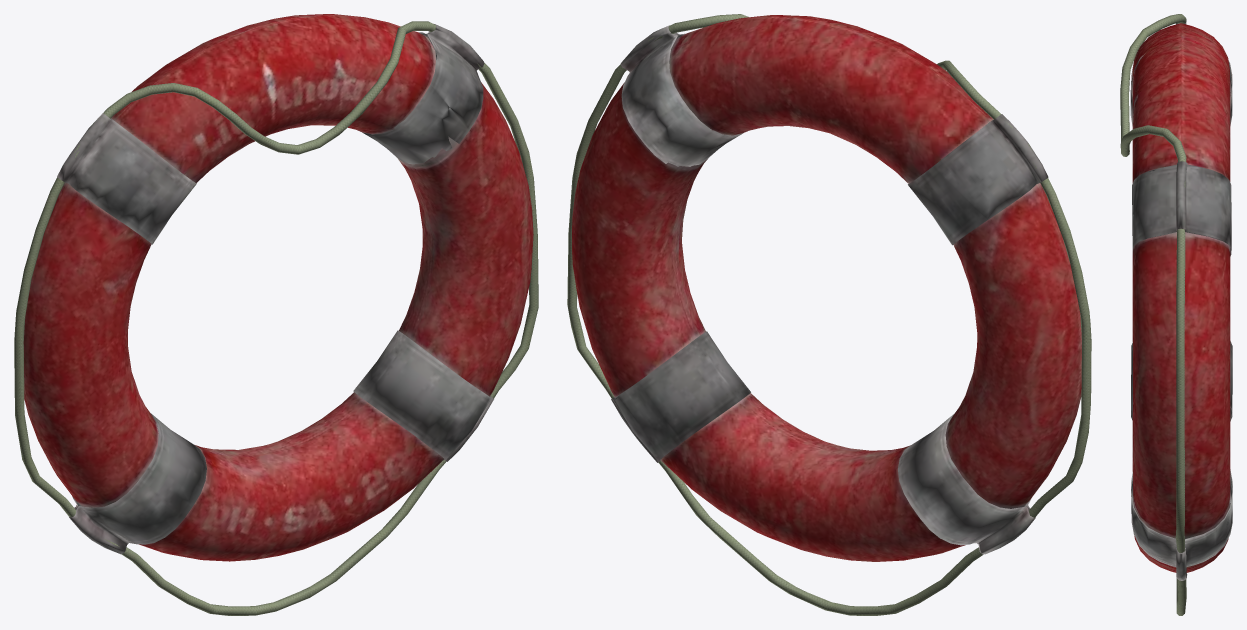
Rendered from lifebuoy.glb.
3 views of the same model, side by side, from view 1: azimuth 30°, elevation 25°; view 2: azimuth 150°, elevation 25°; view 3: azimuth 270°, elevation 25° (orthographic). The views are drawn at different scales.
Parts seen in each view (by area): view 1: lifebuoy; view 2: lifebuoy; view 3: lifebuoy.
Boxes of the visible parts, left/top/right/bottom form: lifebuoy: left=14, top=14, right=538, bottom=615; lifebuoy: left=567, top=14, right=1091, bottom=615; lifebuoy: left=1120, top=14, right=1232, bottom=615.
Size of the model in its own units: 0.7831 by 0.8409 by 0.155.
Materials: 1 (1 with a texture image).
